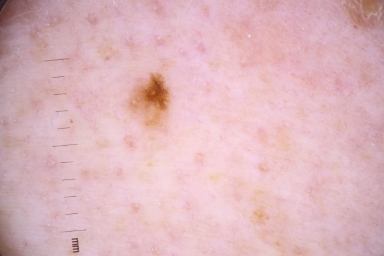melanoma: (145, 70, 169, 107)
